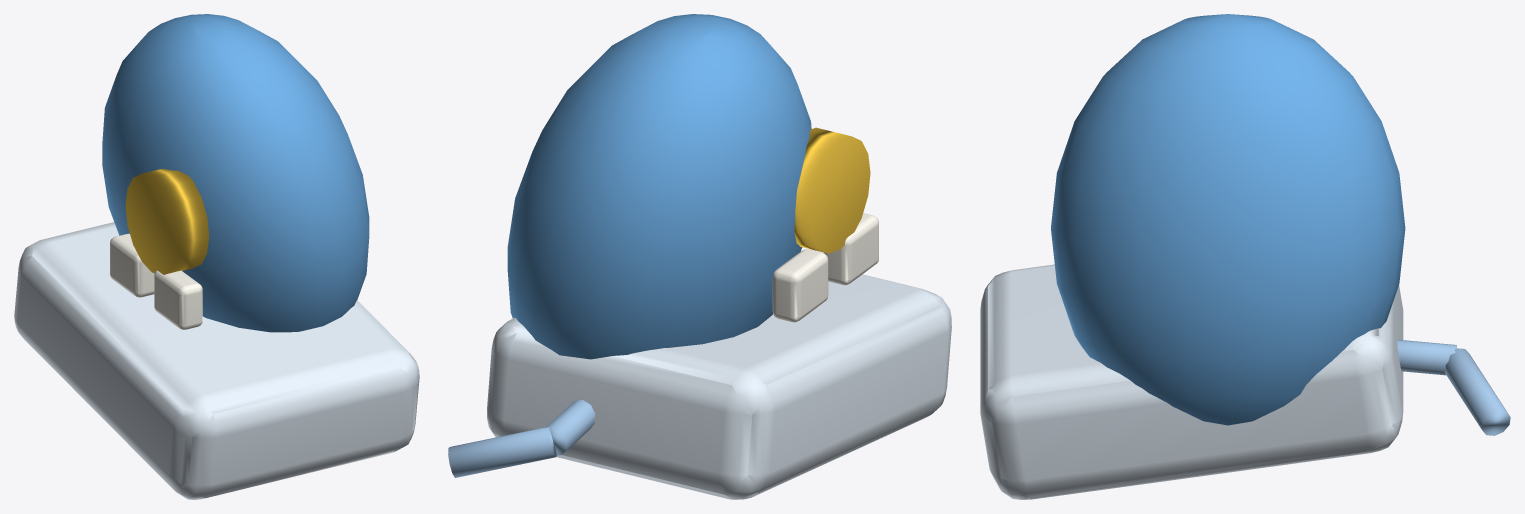
Rendered from pcv_vertical_mouse_cradle.glb.
The picture shows the model from 3 angles, left to right: view 1: azimuth 30°, elevation 25°; view 2: azimuth 150°, elevation 25°; view 3: azimuth 270°, elevation 25°; orthographic projection. The views are drawn at different scales.
Visible parts, largest first — view 1: pcv_vertical_mouse_cradle_MOBILE_JOINED; view 2: pcv_vertical_mouse_cradle_MOBILE_JOINED; view 3: pcv_vertical_mouse_cradle_MOBILE_JOINED.
Part boxes in pixels (x1,y1,x2,y2): pcv_vertical_mouse_cradle_MOBILE_JOINED: (14, 14, 419, 499); pcv_vertical_mouse_cradle_MOBILE_JOINED: (448, 14, 951, 499); pcv_vertical_mouse_cradle_MOBILE_JOINED: (980, 14, 1510, 499).
Size of the model in its own units: 0.7615 by 1.04 by 1.17.
